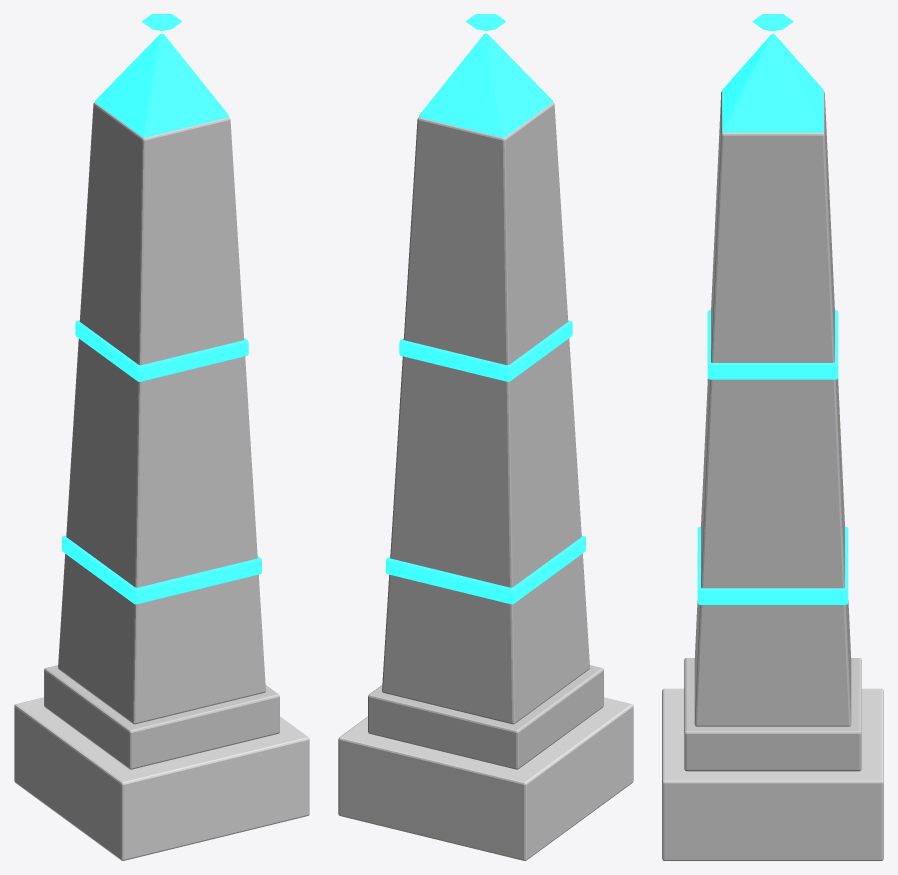
The model's file is egipto_checkpoint.fbx.
3 renders of one model, left to right at view 1: azimuth 30°, elevation 25°; view 2: azimuth 150°, elevation 25°; view 3: azimuth 270°, elevation 25°, orthographic.
Parts seen in each view (by area): view 1: egipto_checkpoint; view 2: egipto_checkpoint; view 3: egipto_checkpoint.
Boxes of the visible parts, x1=… form: egipto_checkpoint: x1=14, y1=14, x2=309, y2=860; egipto_checkpoint: x1=338, y1=14, x2=633, y2=860; egipto_checkpoint: x1=662, y1=14, x2=883, y2=860.
Size of the model in its own units: 1 by 3.95 by 1.
